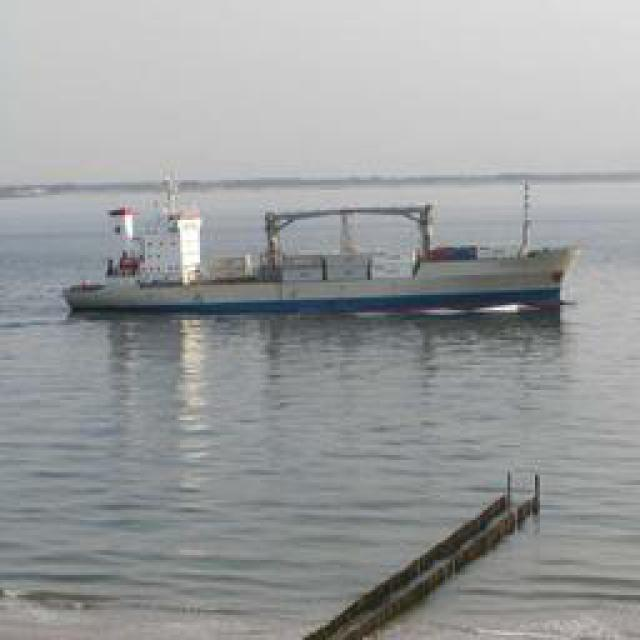Ship: (66, 200, 576, 315)
